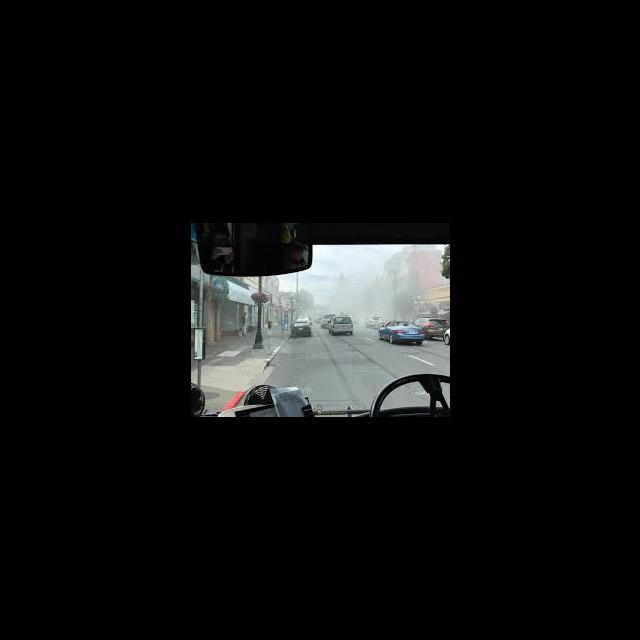Smoke: (311, 252, 430, 316)
